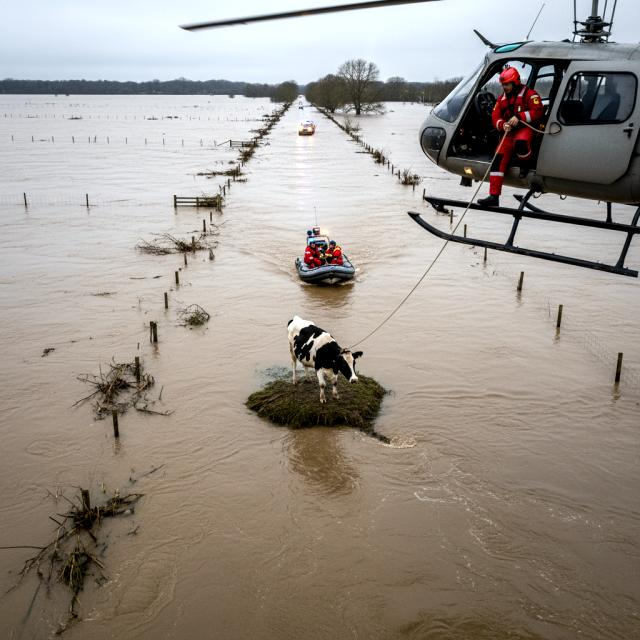cow: (280, 306, 370, 412)
rescuer: (483, 70, 543, 209), (324, 236, 346, 266), (304, 237, 324, 270)
